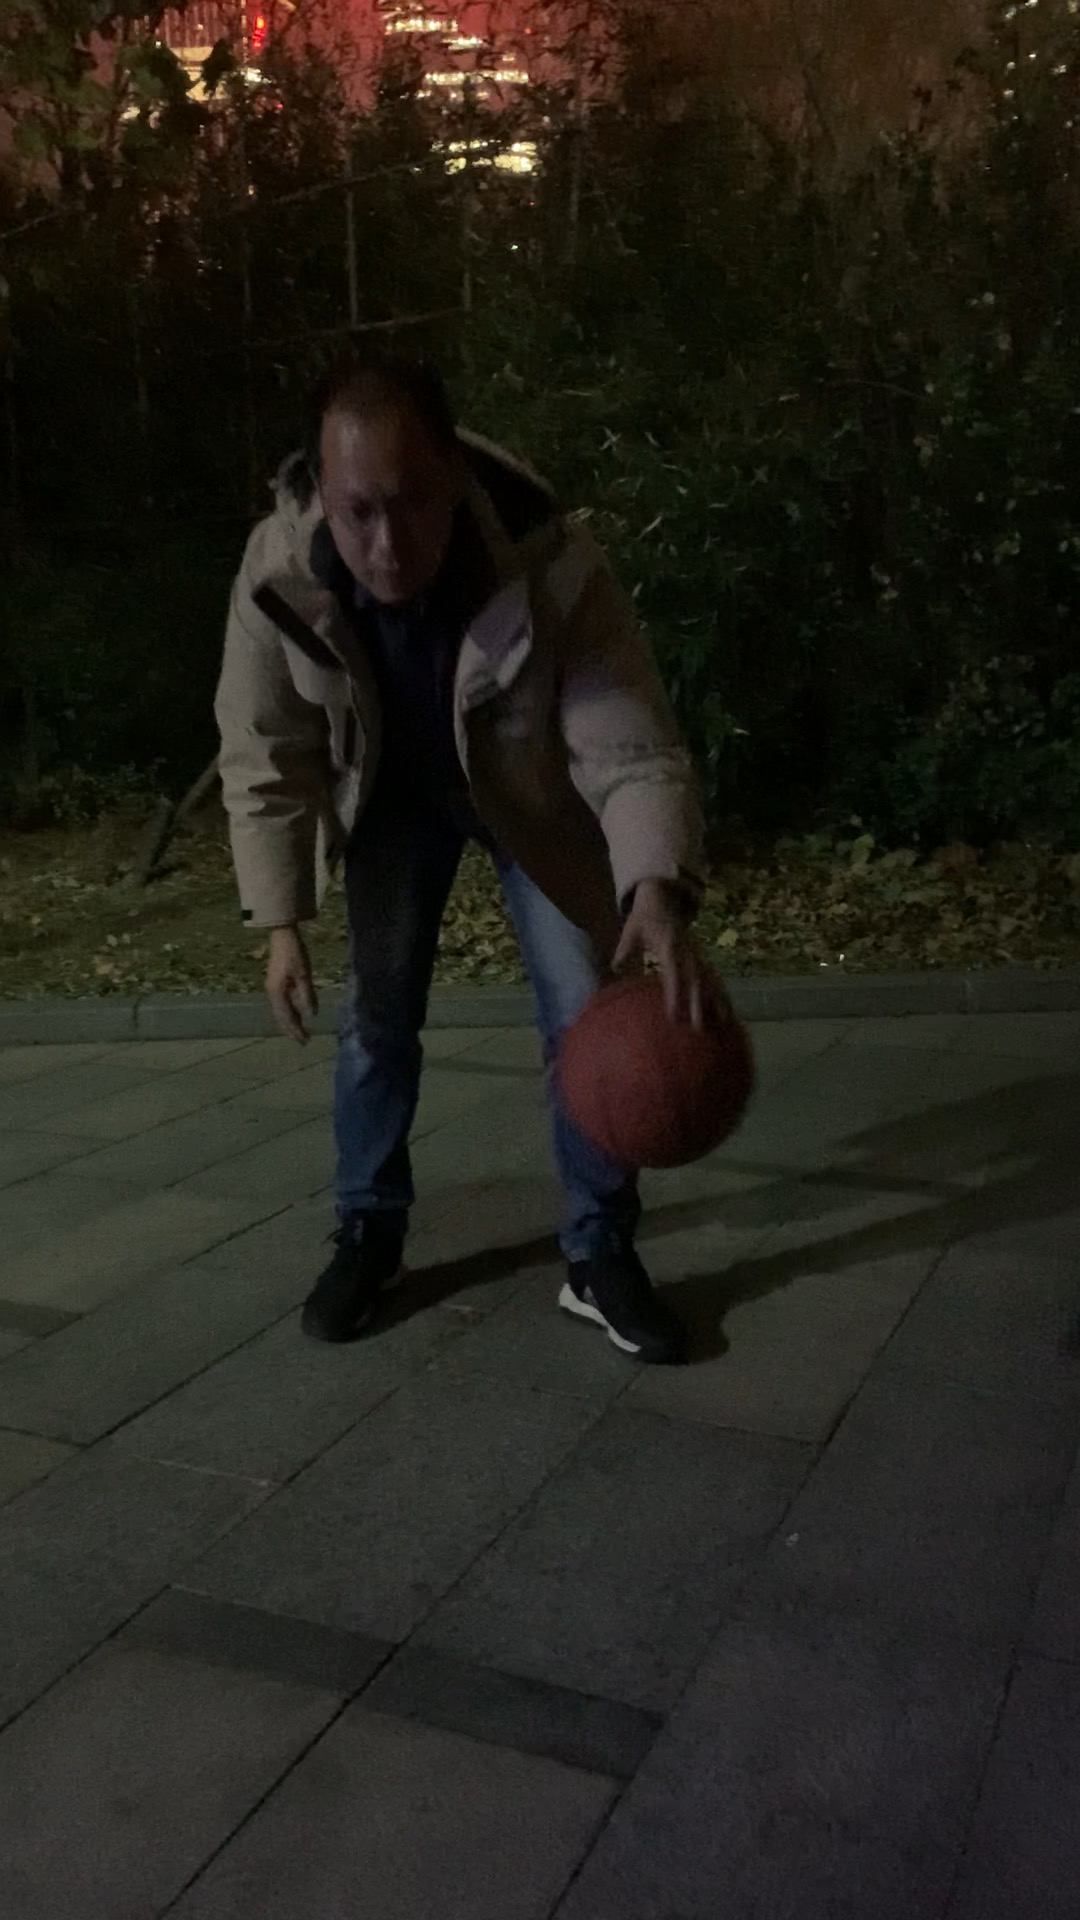ball: (567, 968, 760, 1168)
